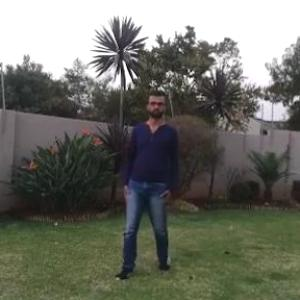follow: (128, 96, 175, 254)
